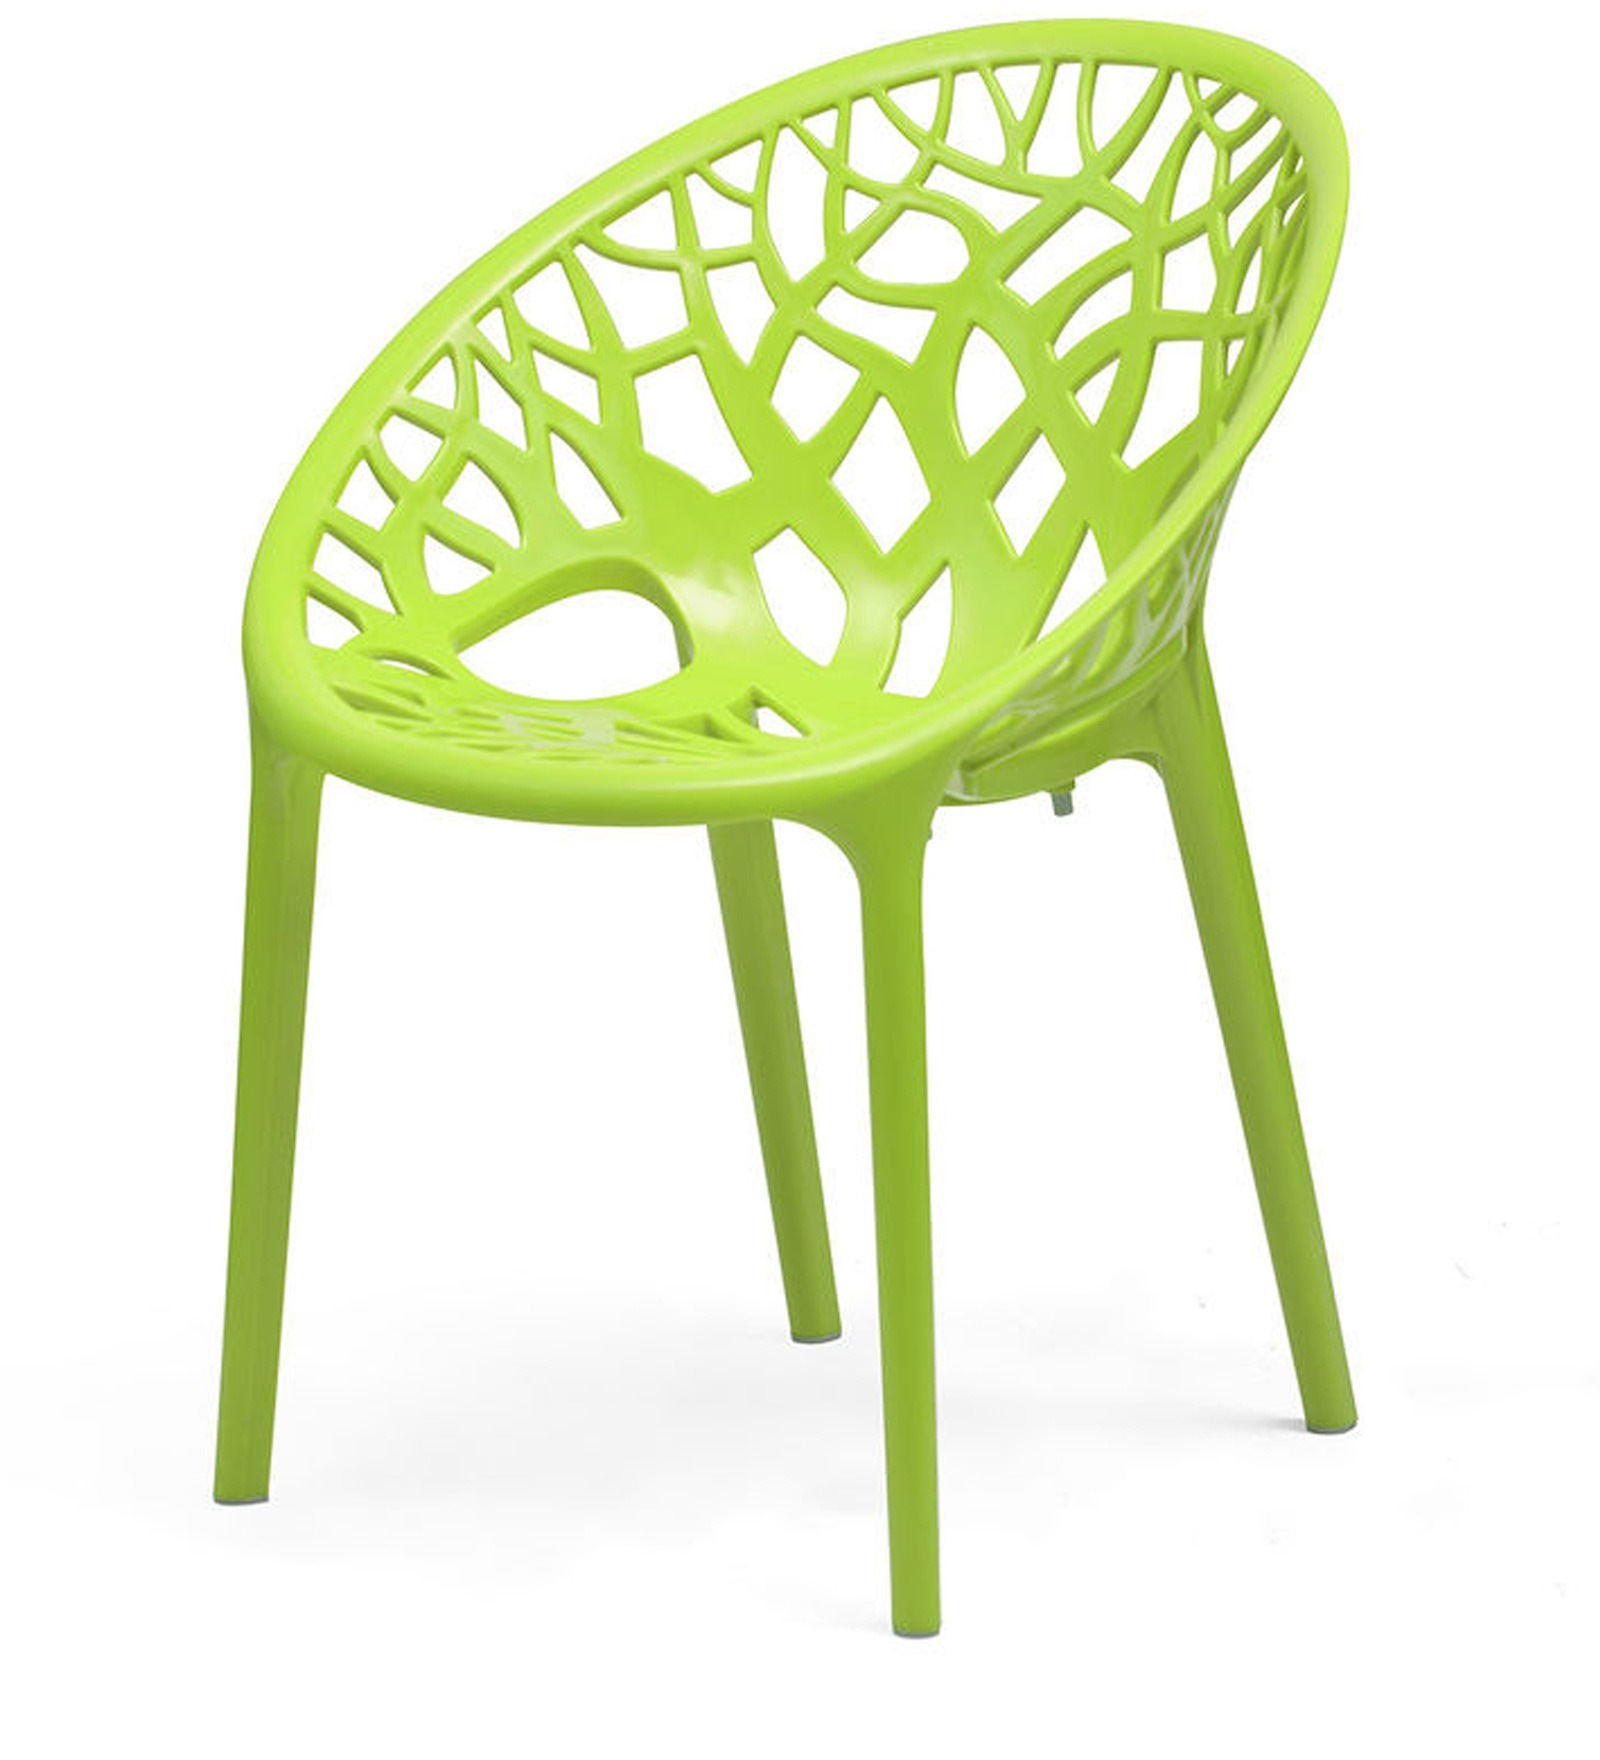Crystal Designer Chair in Lime Green Colour by Nilkamal: (169, 26, 1379, 1653)
